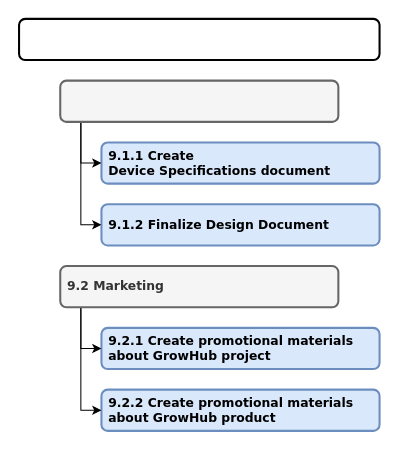
The diagram is 398 pixels wide and 449 high, and some of its shapes have lost their labels. Each missing label, with the centre of its shape:
9. Product documentation: the point at 199,39
9.1 Technical documentation: the point at 199,100
